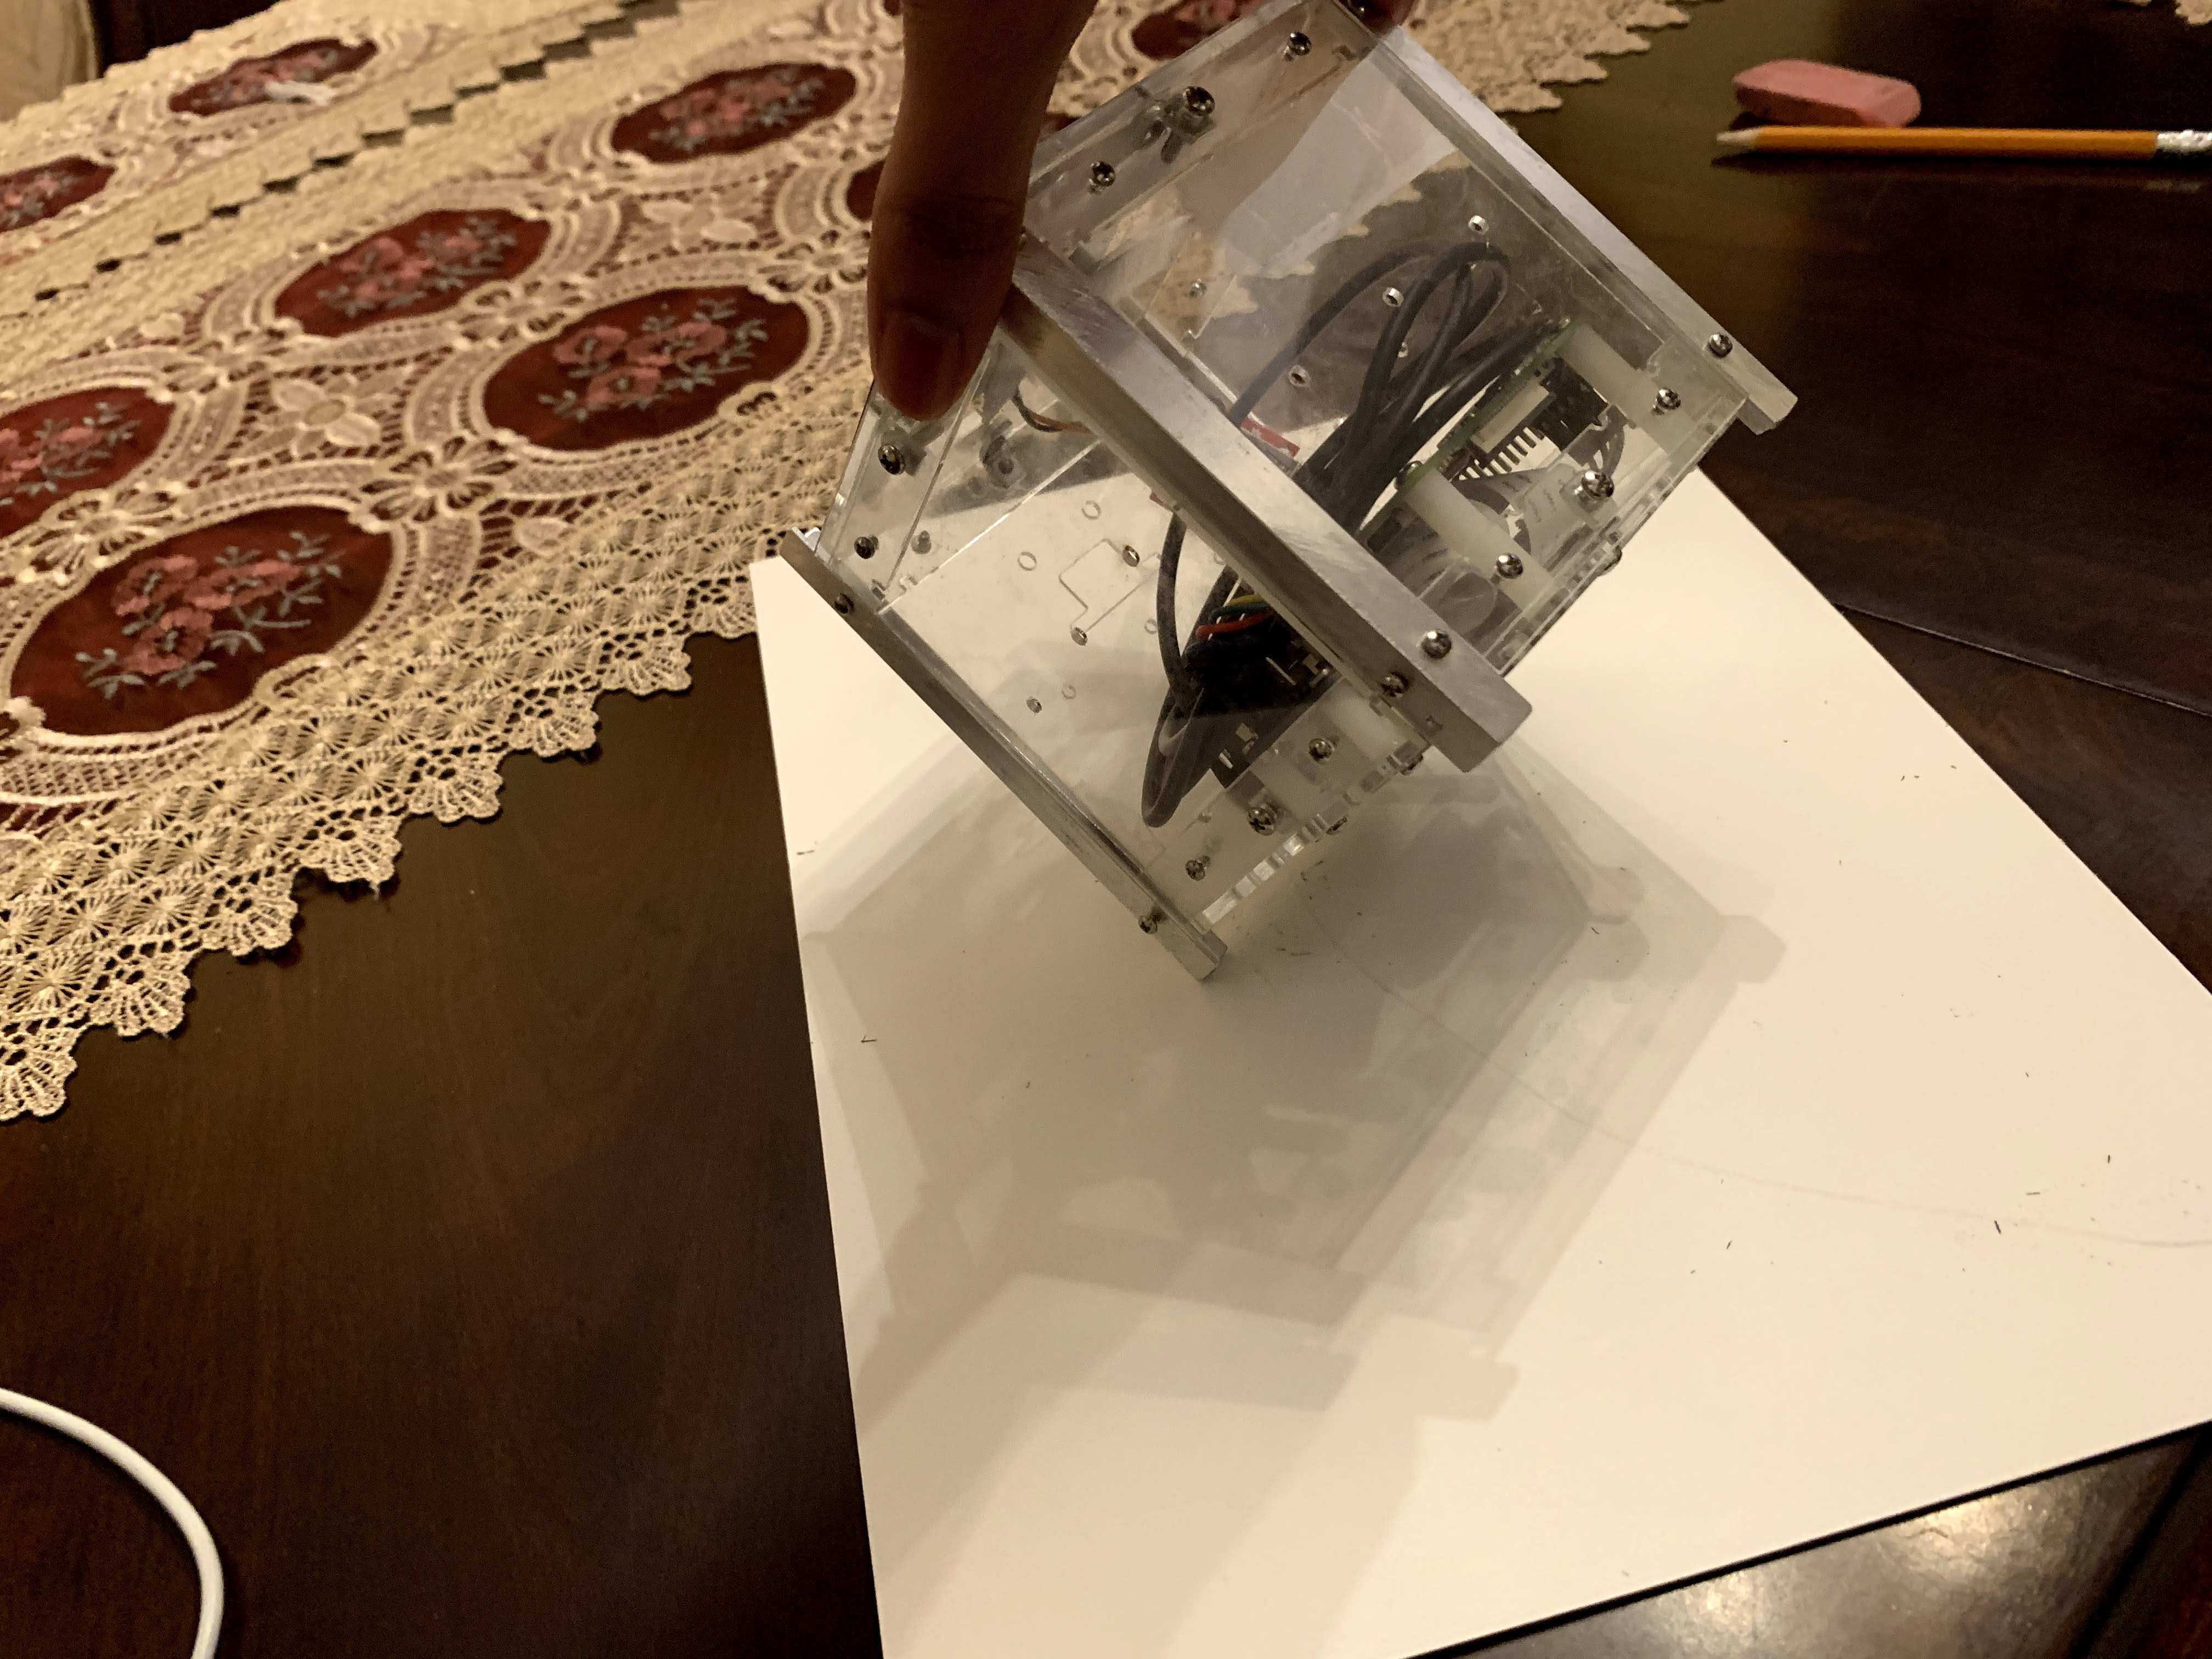Space-debris-cubesat: (784, 0, 1820, 979)
